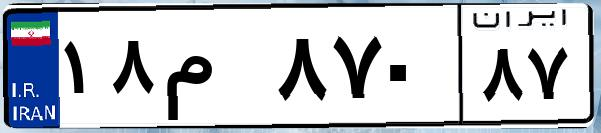0: (385, 28, 445, 110)
1: (57, 26, 110, 100)
7: (330, 28, 385, 110), (525, 38, 570, 115)
8: (270, 28, 330, 110), (475, 38, 525, 113), (110, 28, 158, 98)
م: (158, 20, 270, 120)
